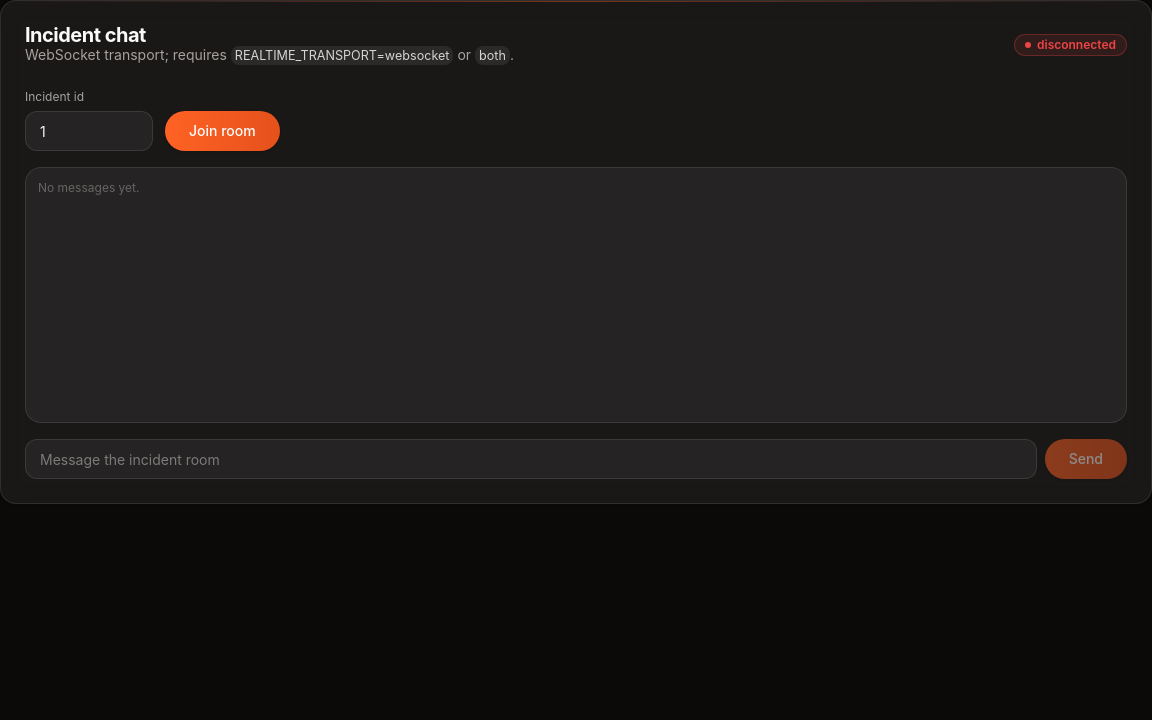
Test: ChatPage › leaves the room and shows an error when joining fails
Click the button "Join room" at (222, 131), box [165,111,280,151]
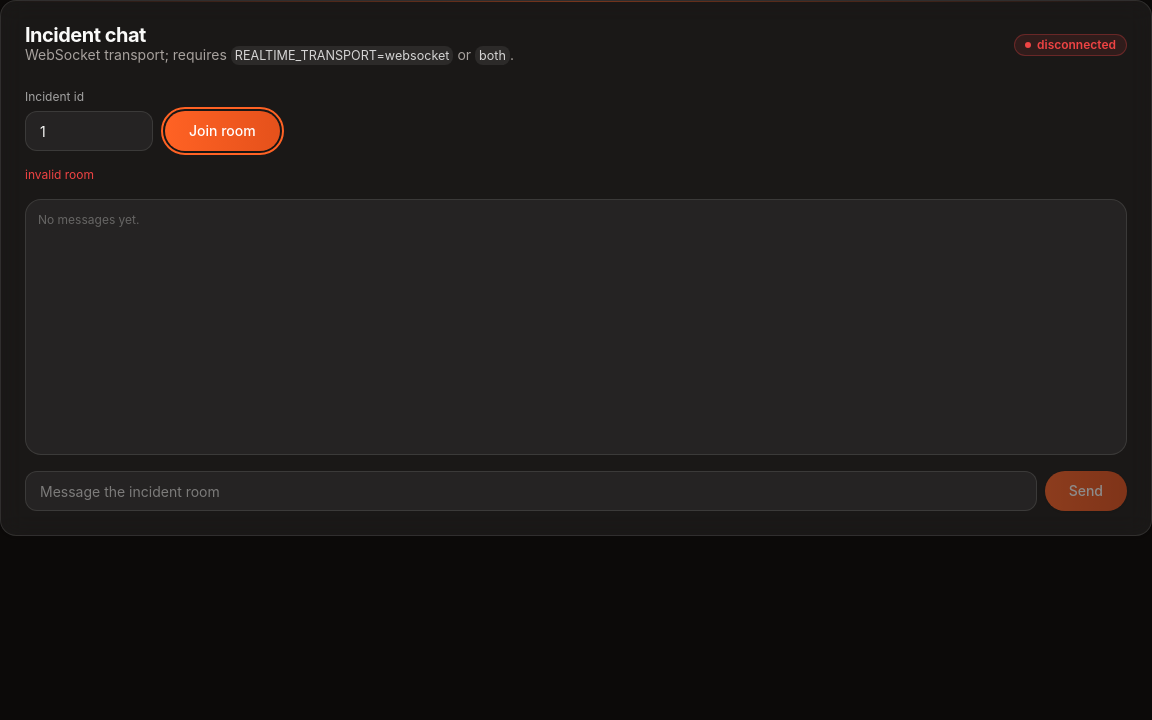
Check: the text "invalid room" is shown, box [25,167,94,182]
